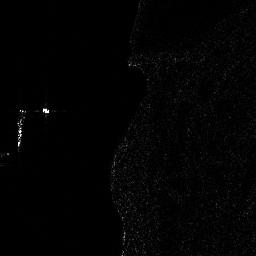ship: (15, 118, 24, 149)
